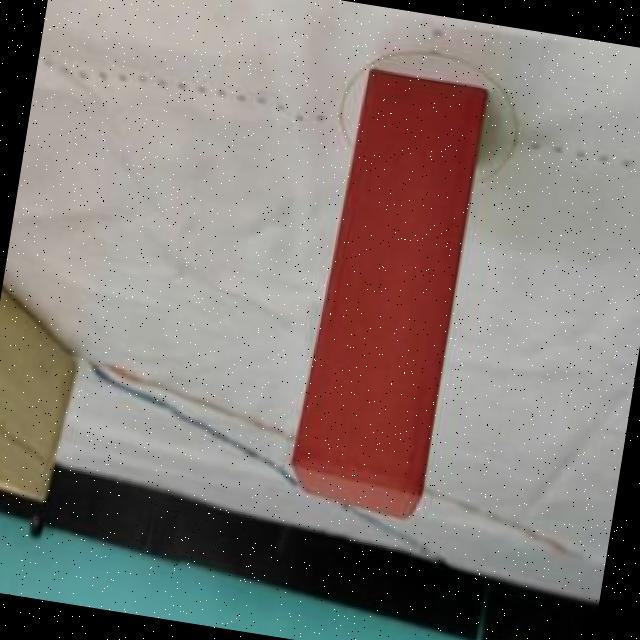redbox: (279, 61, 492, 526)
